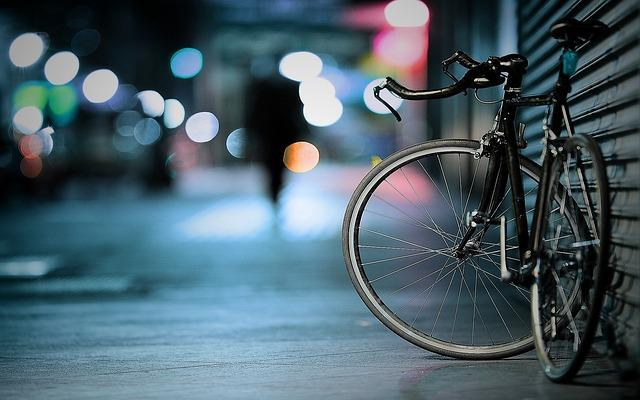Non_Gorille: (8, 5, 629, 400)
